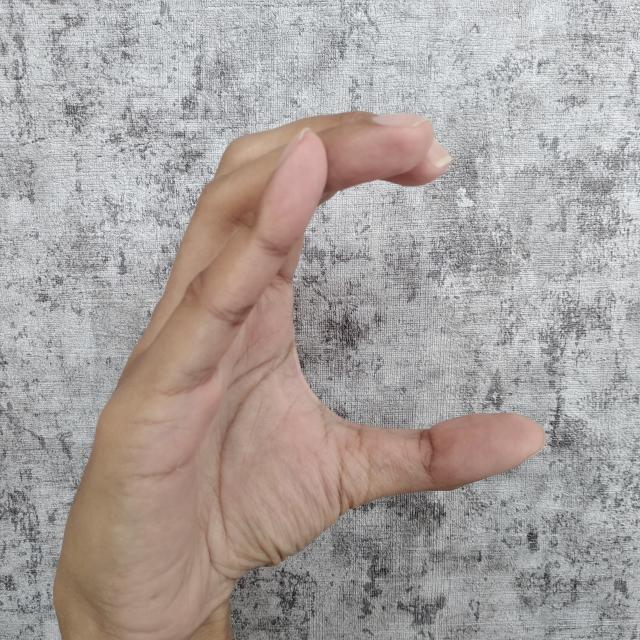C: (50, 104, 551, 640)
